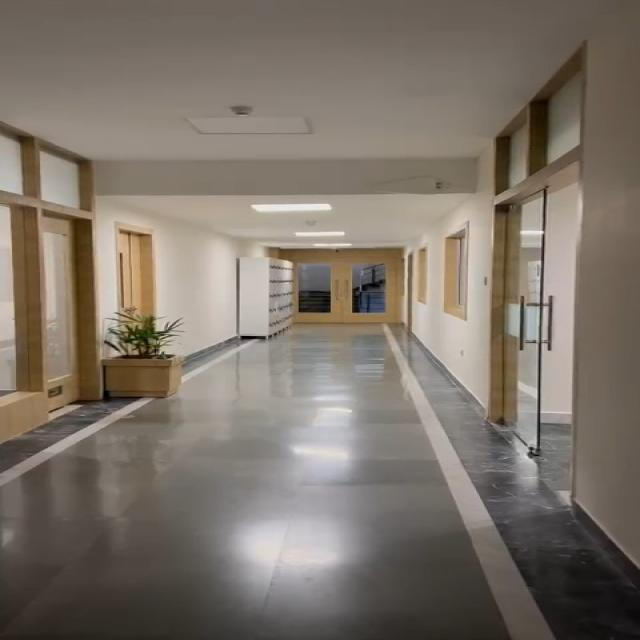door: (494, 127, 592, 445), (0, 128, 88, 398), (302, 245, 396, 333), (94, 222, 166, 331)
floor: (36, 403, 546, 640), (190, 343, 430, 407)
furniture: (101, 309, 198, 402)
wall: (582, 41, 640, 576), (403, 213, 488, 365), (162, 218, 260, 344)
